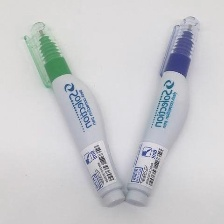correction_fluid: (21, 17, 128, 209), (124, 13, 205, 209)
